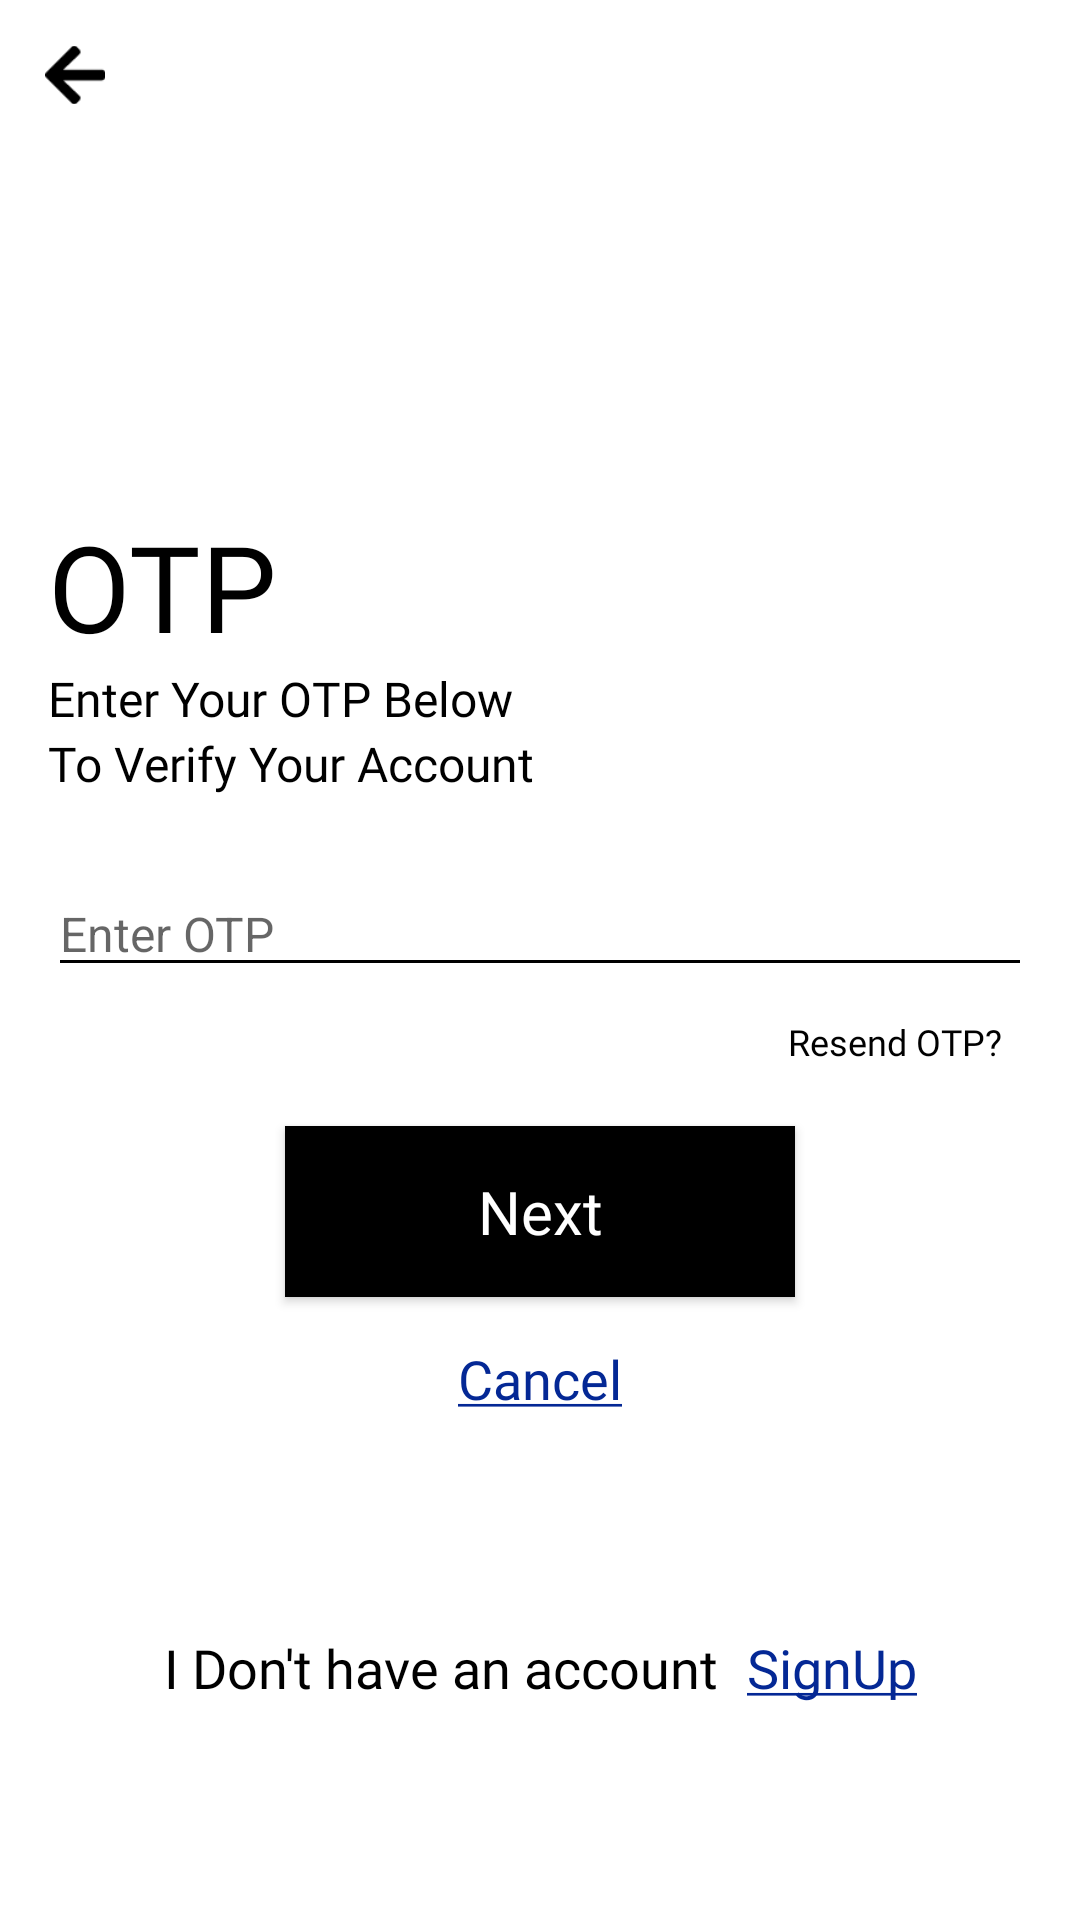

Where icons sit on this 1080px×1920px app screen, as (x1, y1, x2, y2):
back: (45, 46, 105, 104)
